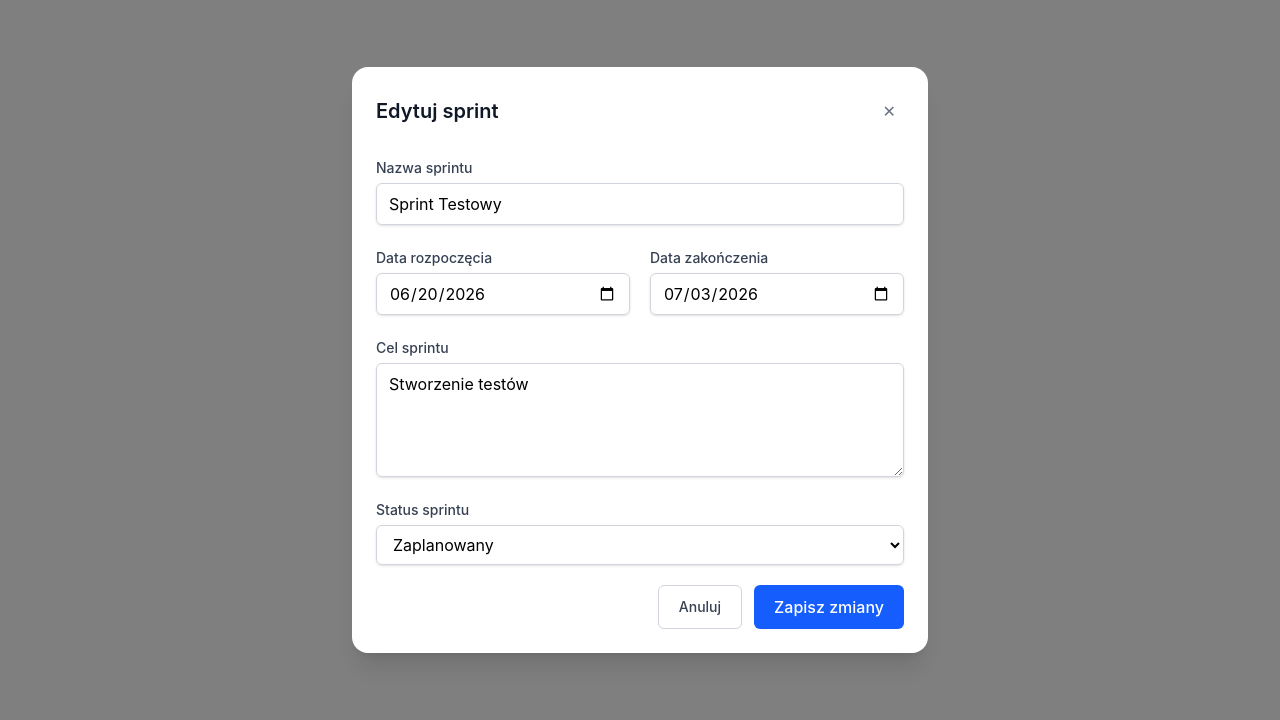
EditProjectSprintModal › powinien wyświetlić komunikat 'Data zakończenia sprintu musi być późniejsza niż data rozpoczęcia.' dla błędu API o statusie 400
This screenshot has width=1280, height=720.
Type "x" into the field named "name". click: x=640, y=204
box: [376, 183, 904, 225]
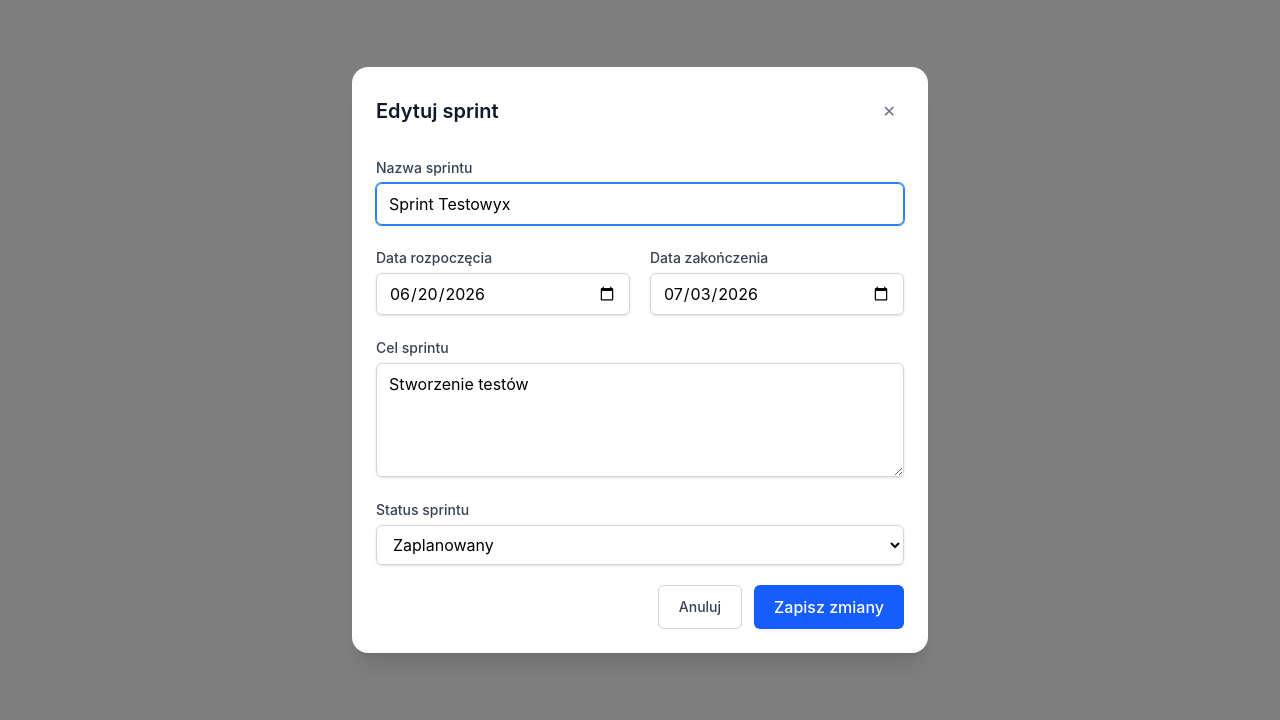
Click the button "Zapisz zmiany". click: x=829, y=607
box: [754, 585, 904, 629]
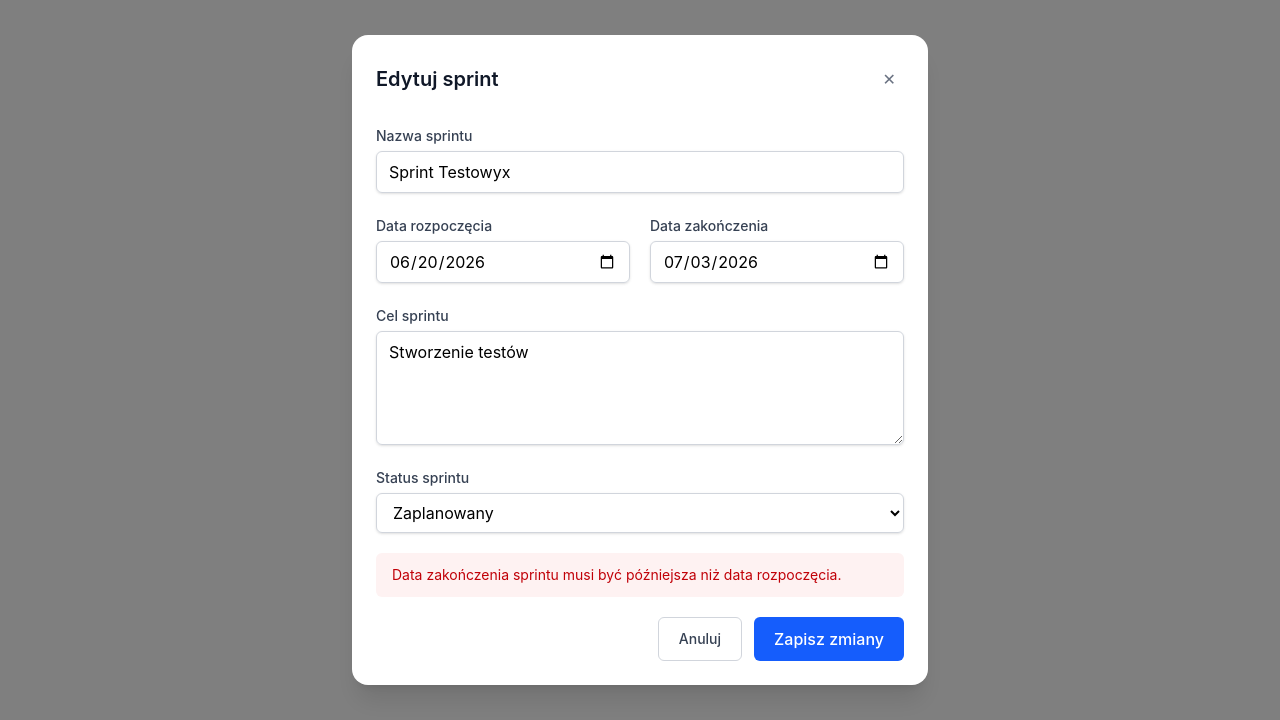
expect the text "Data zakończenia sprintu musi być późniejsza niż data rozpoczęcia." is shown: met, box [376, 553, 904, 597]
